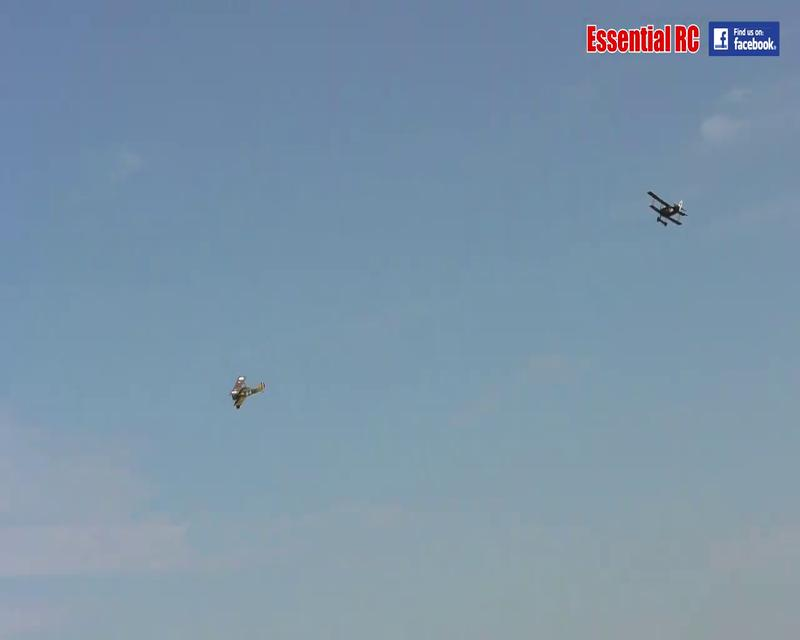UAV: (646, 189, 689, 228), (230, 374, 266, 409)
